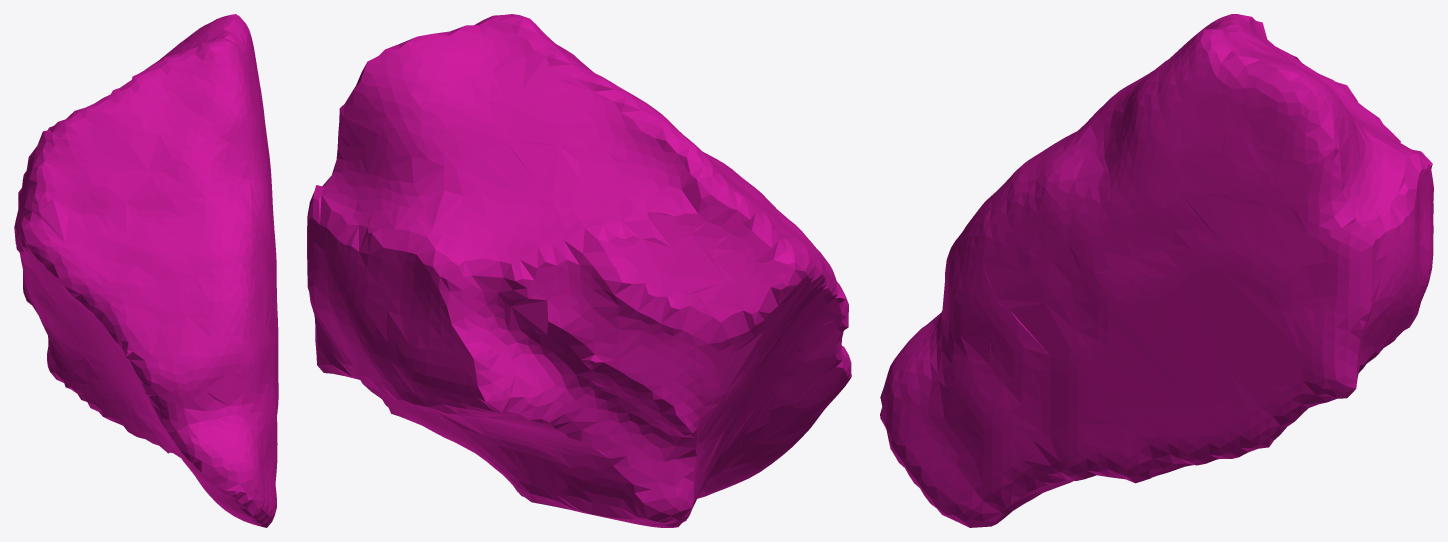
Rendered from Model_81_RH__Auditory_cortex__primary_area_(AuA1).obj.
3 renders of one model, left to right at view 1: azimuth 30°, elevation 25°; view 2: azimuth 150°, elevation 25°; view 3: azimuth 270°, elevation 25°, orthographic. The views are drawn at different scales.
Size of the model in its own units: 2.88 by 3.76 by 3.64.
